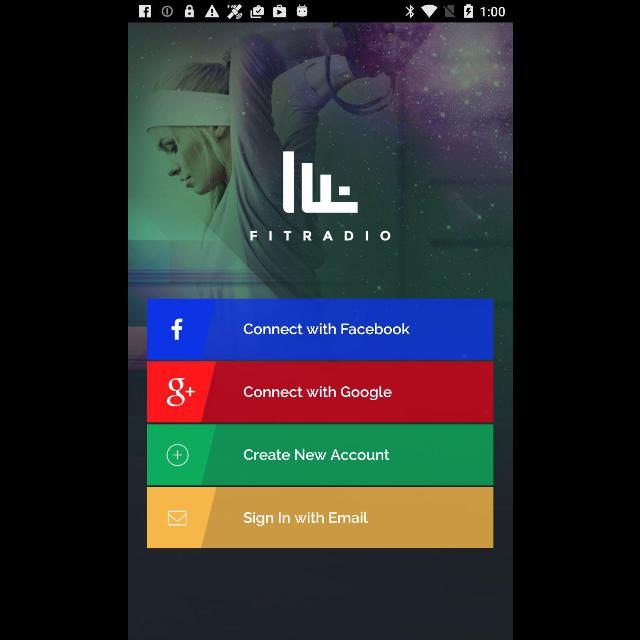backgroundimage: (128, 22, 512, 640)
image: (282, 151, 358, 213)
text: (250, 230, 390, 242)
textbutton: (147, 424, 493, 486), (147, 298, 493, 359), (147, 488, 493, 548), (147, 362, 493, 422)
uppertaskbar: (128, 1, 512, 23)
